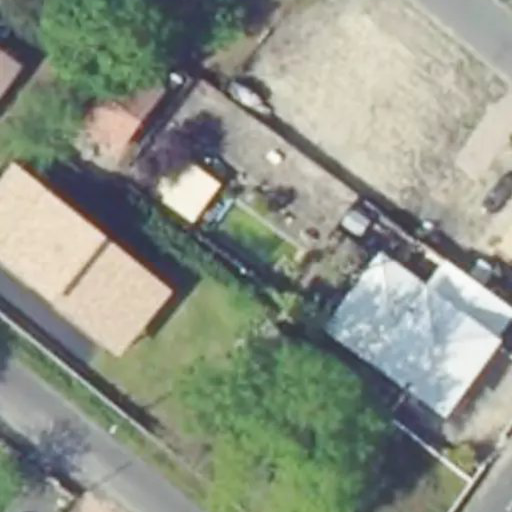pool: (209, 201, 306, 286)
